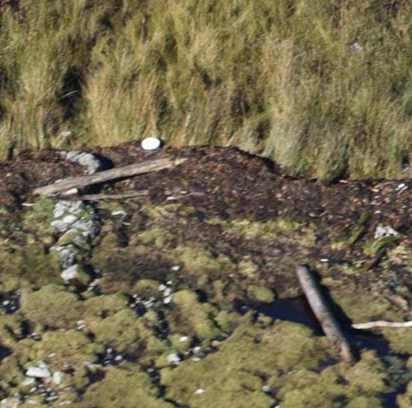straight_bar: (32, 155, 176, 203), (289, 264, 356, 365), (348, 310, 412, 337)
white_in_green: (122, 117, 178, 168)
